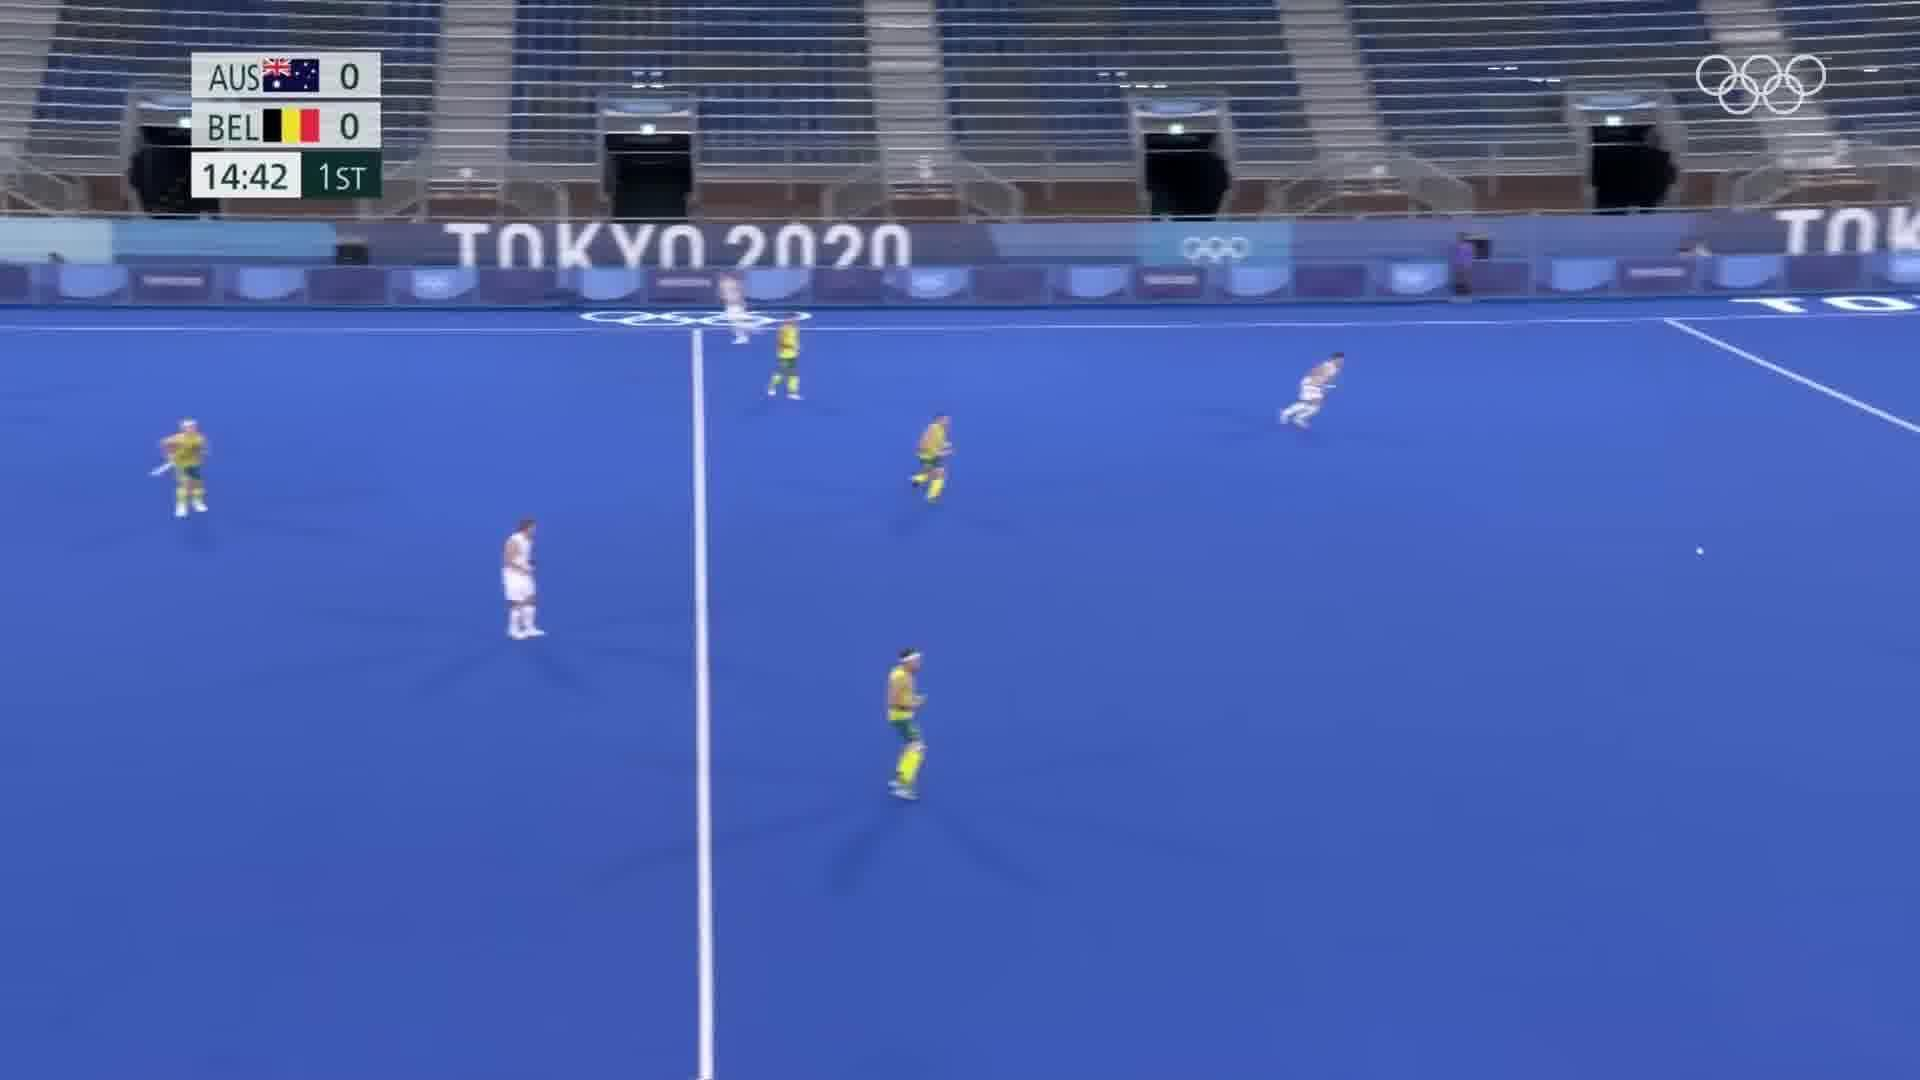ball: (1685, 534, 1712, 568)
